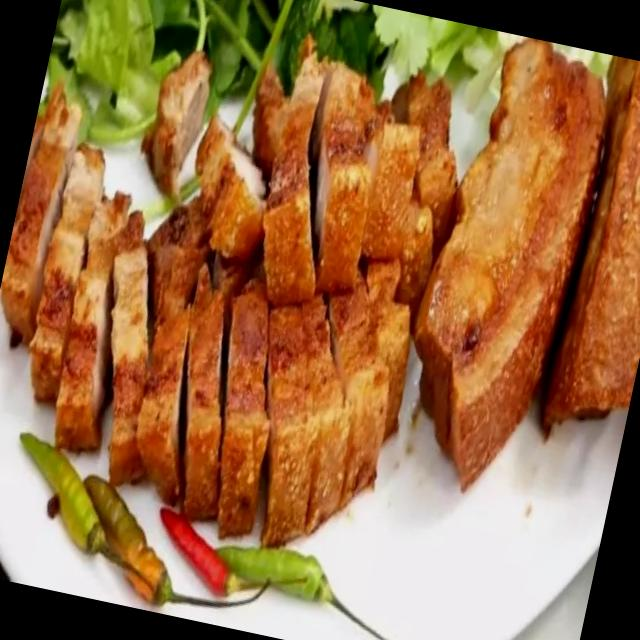thit chien: (414, 37, 603, 487), (542, 57, 640, 429), (263, 295, 348, 544), (0, 83, 80, 341), (136, 203, 204, 498), (28, 144, 104, 401), (329, 260, 408, 507), (55, 192, 130, 448), (263, 54, 322, 304), (313, 62, 376, 292), (217, 277, 269, 534), (391, 75, 457, 262), (180, 265, 227, 515), (195, 115, 265, 259), (108, 243, 148, 482), (361, 122, 418, 258)
